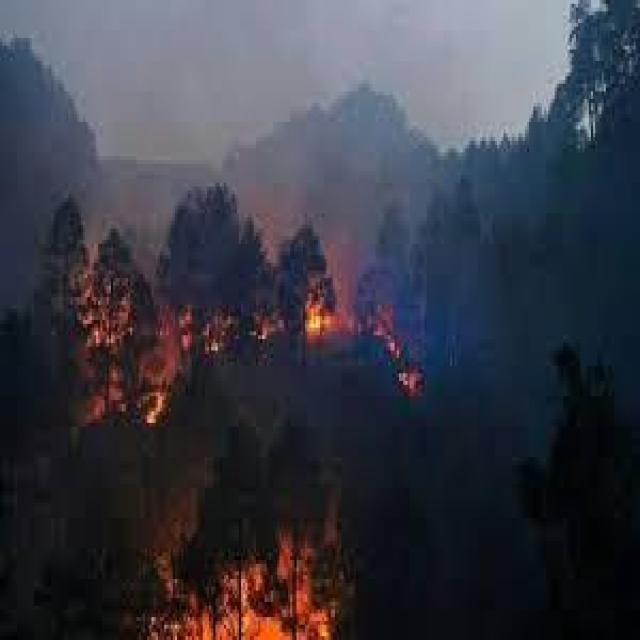fire: (145, 514, 326, 640)
smoke: (78, 0, 435, 287)
